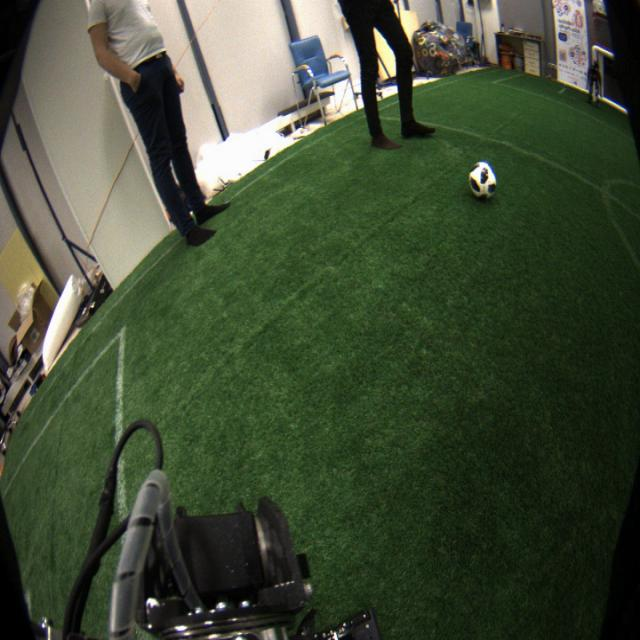ball: (470, 161, 497, 200)
goalpost: (590, 43, 601, 103)
